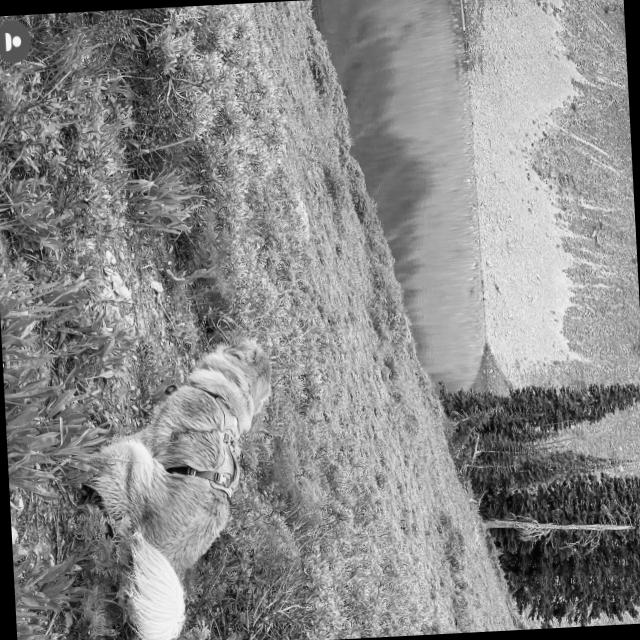squatting: (75, 331, 290, 640)
